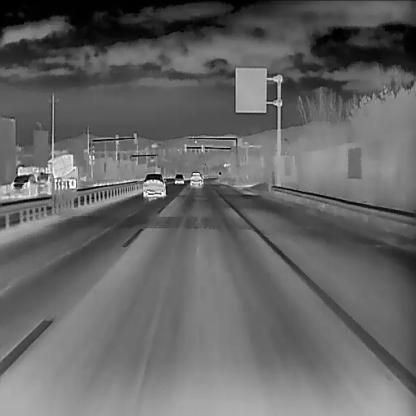car: (9, 172, 38, 198), (141, 172, 167, 196), (35, 172, 55, 194), (188, 171, 202, 185), (173, 172, 185, 184)
truck: (15, 152, 77, 191)
